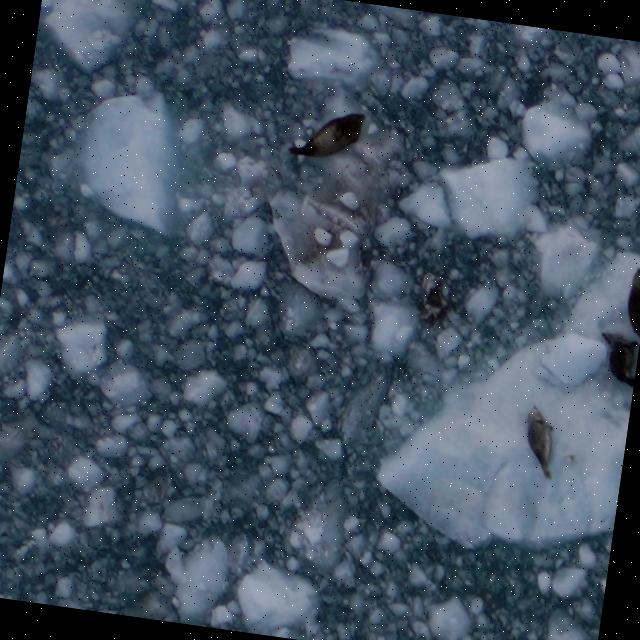seal: (283, 100, 371, 171), (515, 400, 564, 483), (585, 327, 640, 393), (617, 262, 640, 350)
